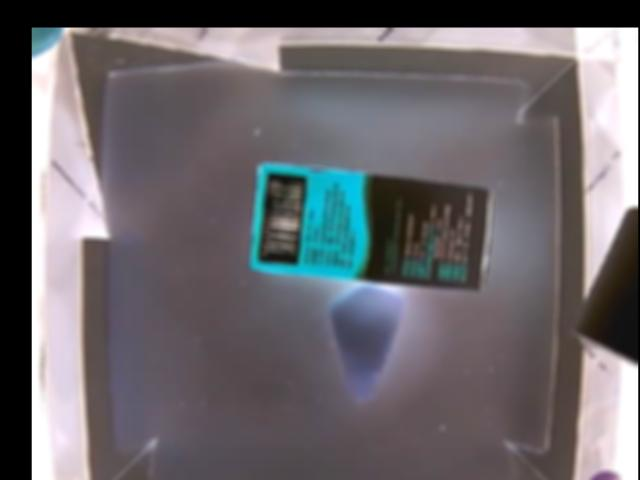Medicine: (247, 163, 490, 293)
Mooli: (325, 286, 403, 407)
